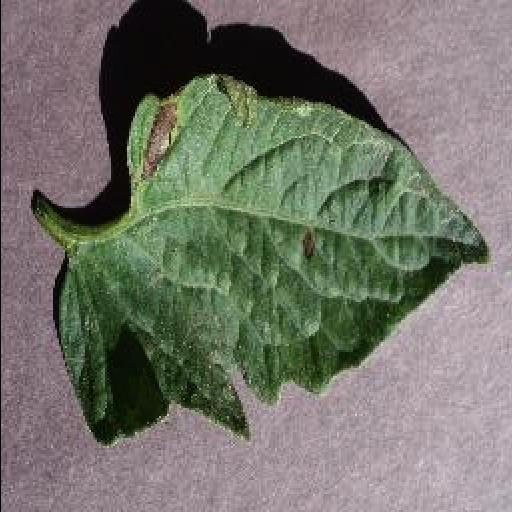disease_tomato: (56, 74, 490, 450)
